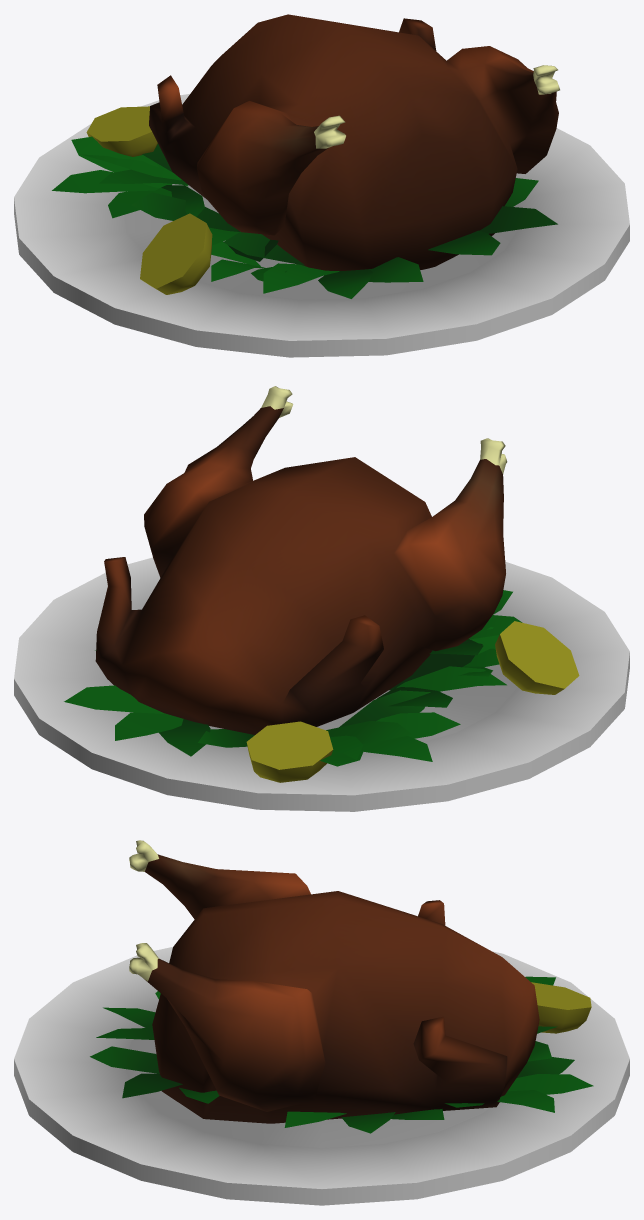
File: Chicken.fbx
3 renders of one model, top to bottom at view 1: azimuth 30°, elevation 25°; view 2: azimuth 150°, elevation 25°; view 3: azimuth 270°, elevation 25°, orthographic.
Visible parts, largest first — view 1: Chicken2; view 2: Chicken2; view 3: Chicken2.
Part boxes in pixels (x1,y1,x2,y2): Chicken2: (14,14,629,357); Chicken2: (14,386,629,811); Chicken2: (14,840,629,1205).
Size of the model in its own units: 556 by 207 by 556.
